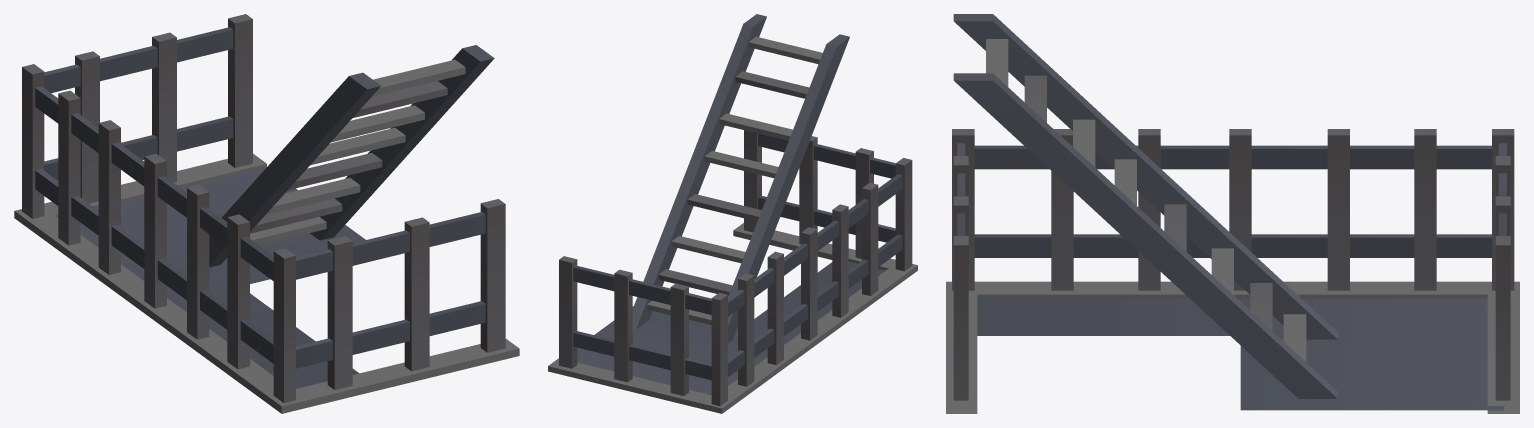
Rendered from SM_House_Stairs_1.FBX.
3 views of the same model, side by side, from view 1: azimuth 30°, elevation 25°; view 2: azimuth 150°, elevation 25°; view 3: azimuth 270°, elevation 25° (orthographic). The views are drawn at different scales.
Visible parts, largest first — view 1: SM_House_Stairs_1; view 2: SM_House_Stairs_1; view 3: SM_House_Stairs_1.
Part boxes in pixels (bbox=[...]): SM_House_Stairs_1: bbox=[14, 14, 519, 413]; SM_House_Stairs_1: bbox=[548, 14, 917, 413]; SM_House_Stairs_1: bbox=[946, 14, 1519, 413].
Size of what is drawn, in the model's own units: 168 by 327 by 203.
